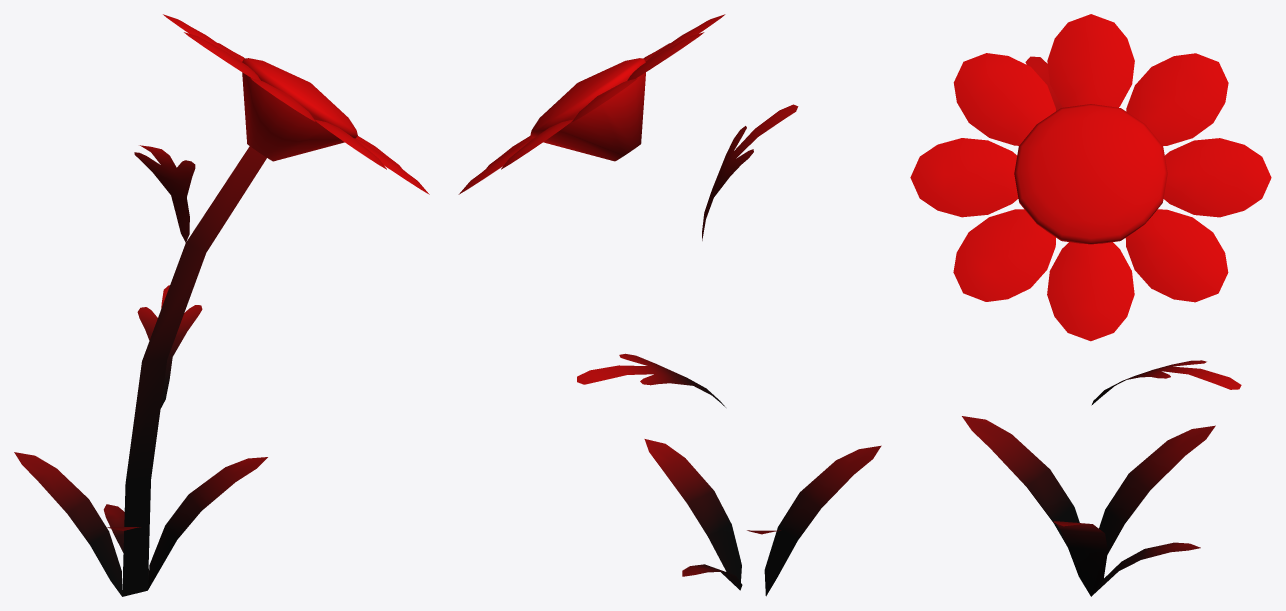
File: SM_Daisy_02_LOD0.fbx
3 views of the same model, side by side, from view 1: azimuth 30°, elevation 25°; view 2: azimuth 150°, elevation 25°; view 3: azimuth 270°, elevation 25° (orthographic). The views are drawn at different scales.
Visible parts, largest first — view 1: SM_Daisy_02_LOD0; view 2: SM_Daisy_02_LOD0; view 3: SM_Daisy_02_LOD0.
Part boxes in pixels (left/top/right/bottom): SM_Daisy_02_LOD0: left=14, top=14, right=429, bottom=596; SM_Daisy_02_LOD0: left=458, top=14, right=881, bottom=596; SM_Daisy_02_LOD0: left=910, top=14, right=1271, bottom=596.
Size of the model in its own units: 53.83 by 44.39 by 82.01.
